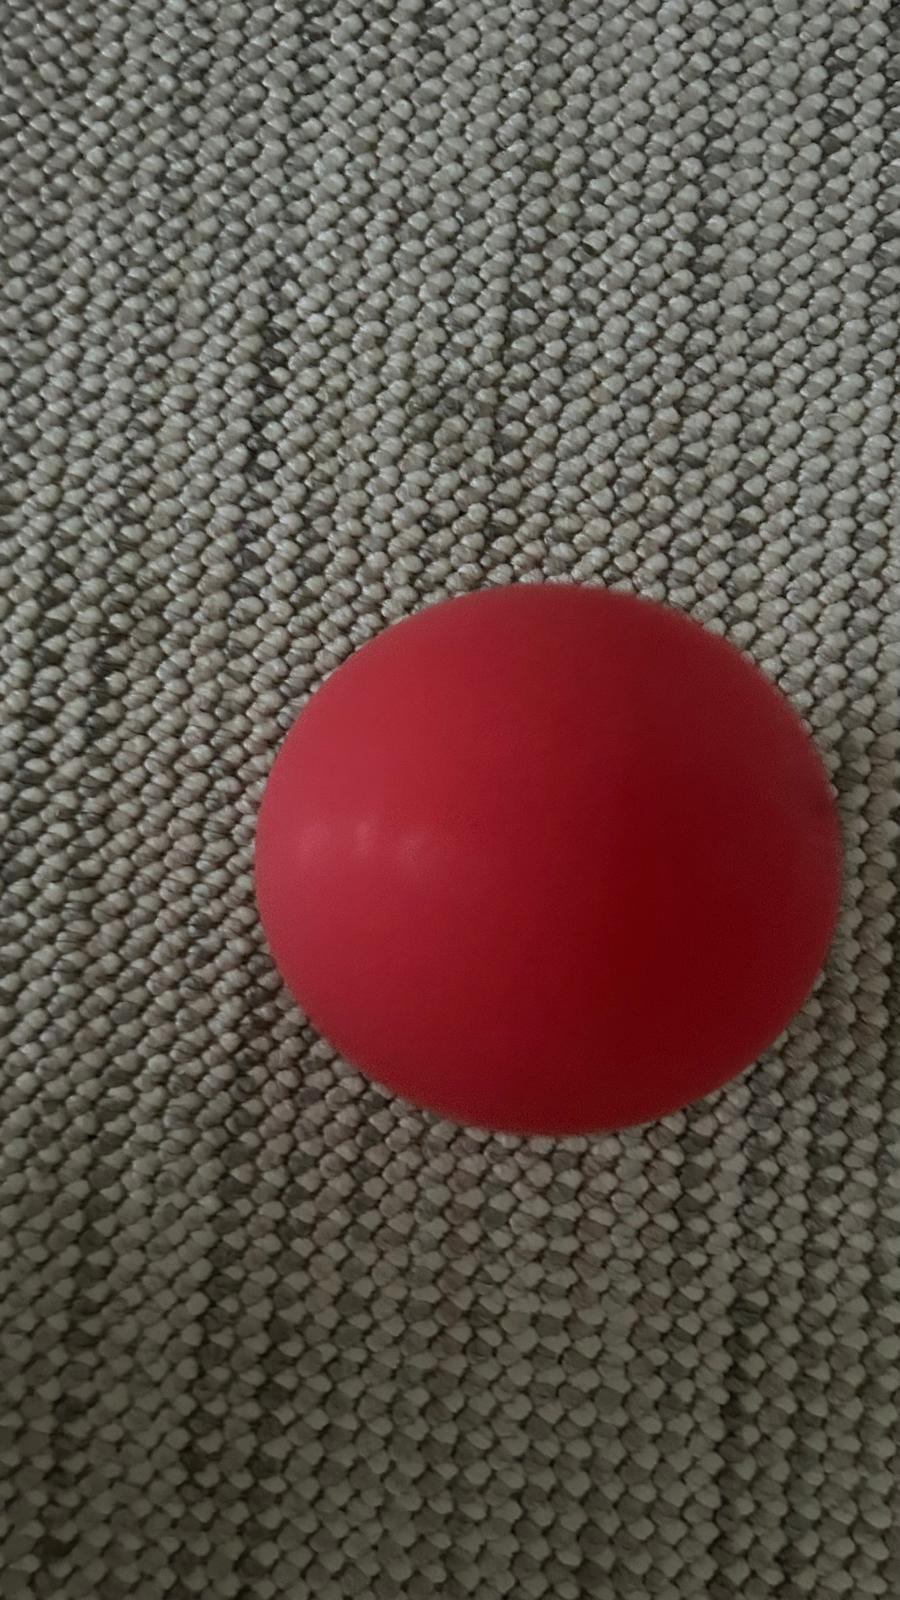red: (251, 577, 835, 1141)
